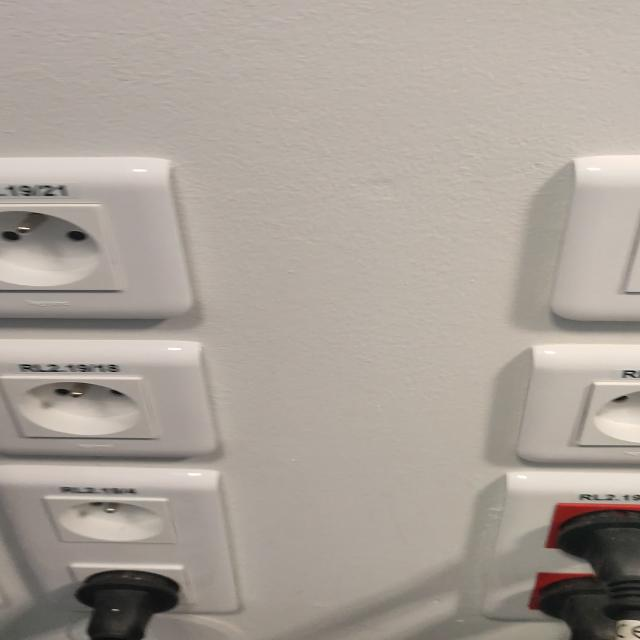house plug: (0, 205, 124, 292), (41, 496, 182, 544)
